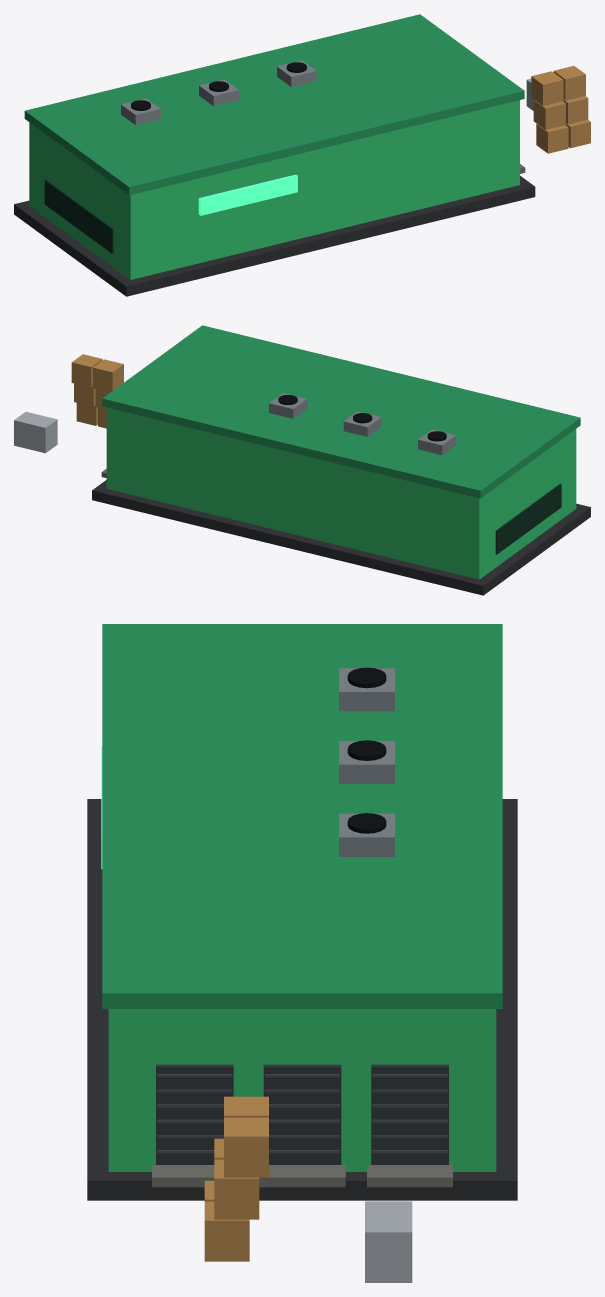
The model's file is warehouse-db.glb.
3 renders of one model, top to bottom at view 1: azimuth 30°, elevation 25°; view 2: azimuth 150°, elevation 25°; view 3: azimuth 270°, elevation 25°, orthographic. The views are drawn at different scales.
Visible parts, largest first — view 1: warehouse-db; view 2: warehouse-db; view 3: warehouse-db.
Boxes of the visible parts, x1,y1,x2,y2 form: warehouse-db: (14,14,590,296); warehouse-db: (14,325,590,595); warehouse-db: (87,624,517,1282).
Size of the model in its own units: 53.2 by 11.52 by 20.
